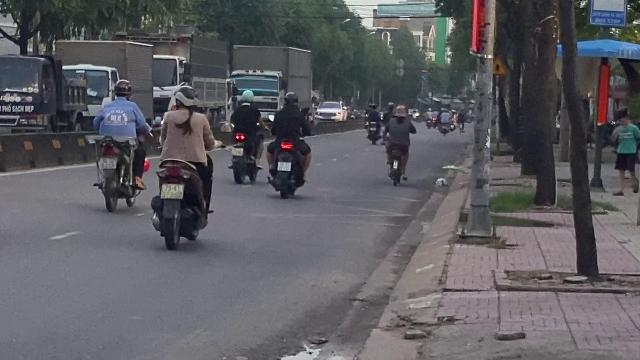helmet: (171, 86, 197, 110), (111, 78, 131, 98), (282, 90, 298, 105)
licenseplate: (160, 184, 182, 198), (100, 158, 116, 168), (278, 162, 290, 172)
motorcyclist: (148, 84, 218, 248), (91, 78, 151, 210), (266, 90, 312, 198)
